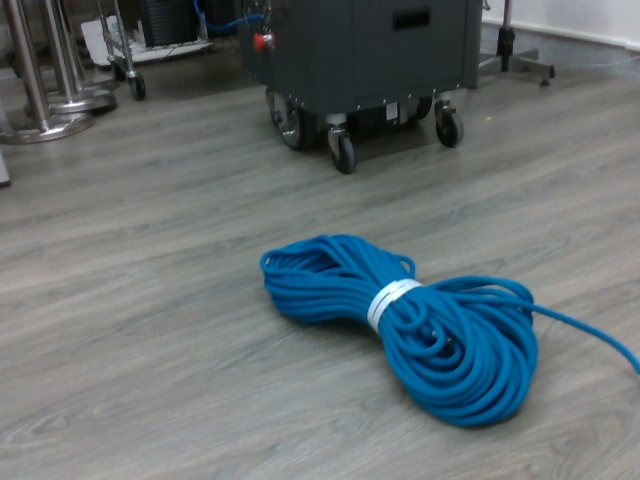rope: (254, 229, 544, 434)
